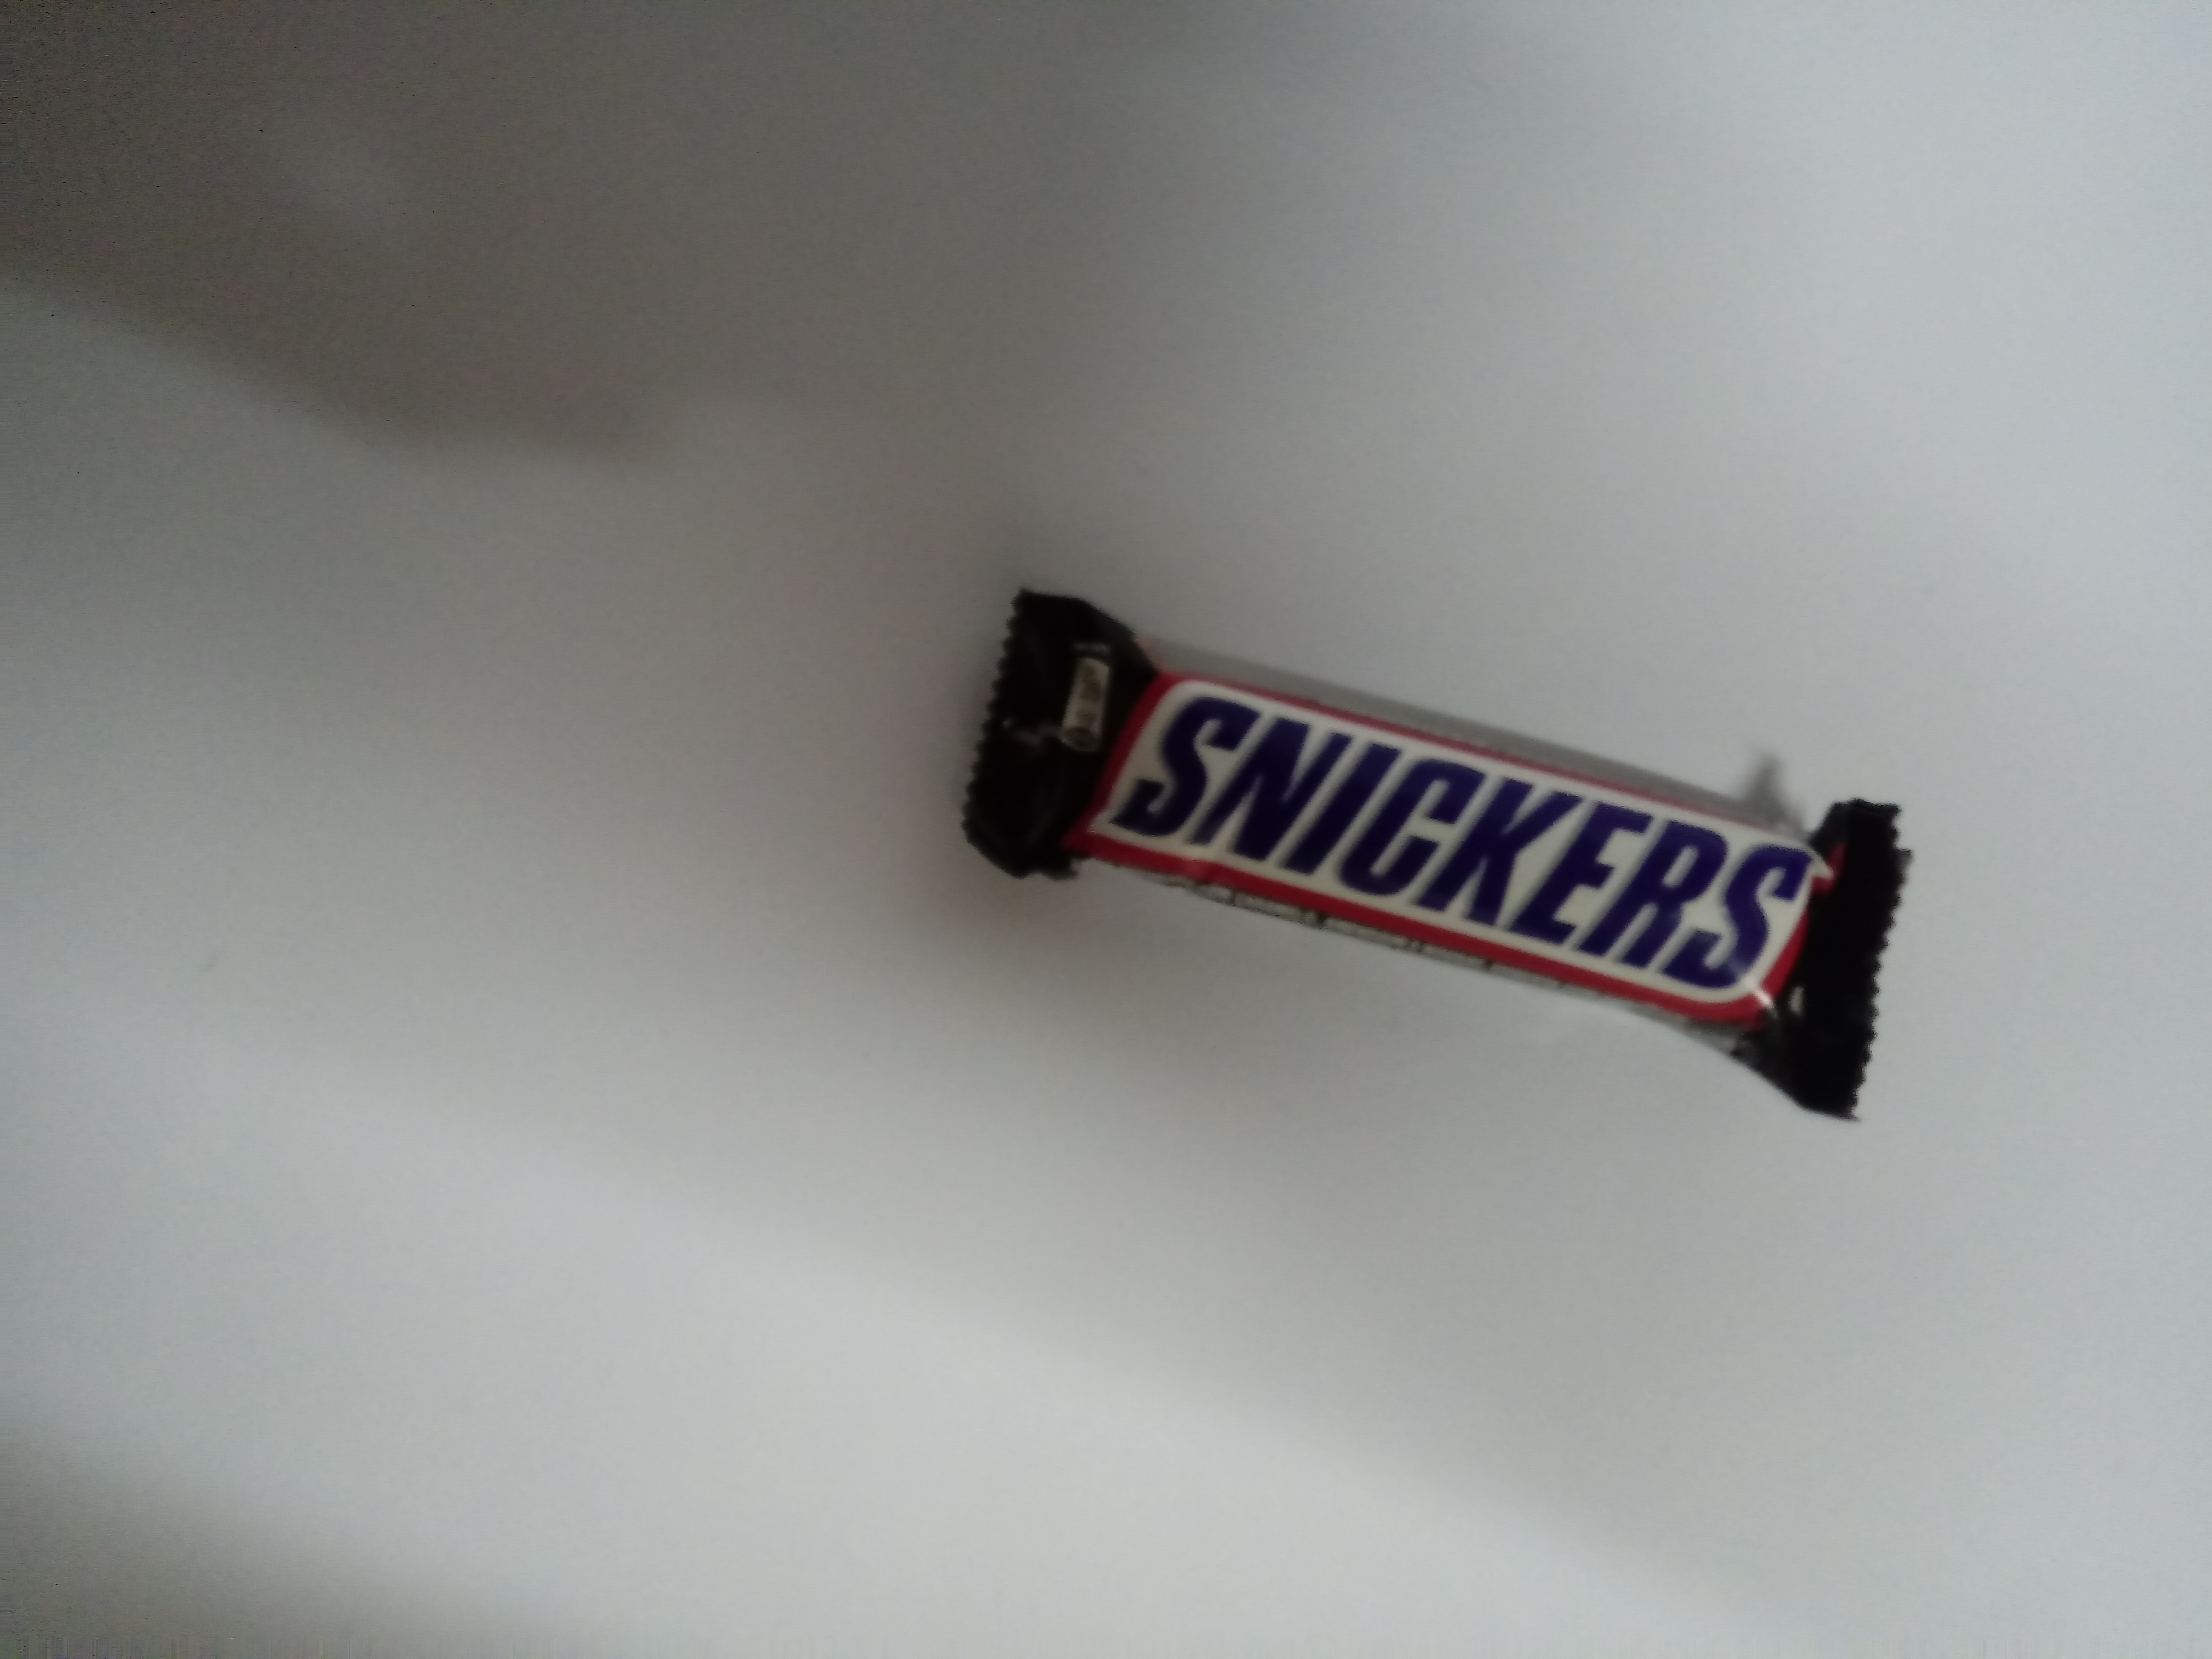snickers: (934, 565, 1933, 1166)
